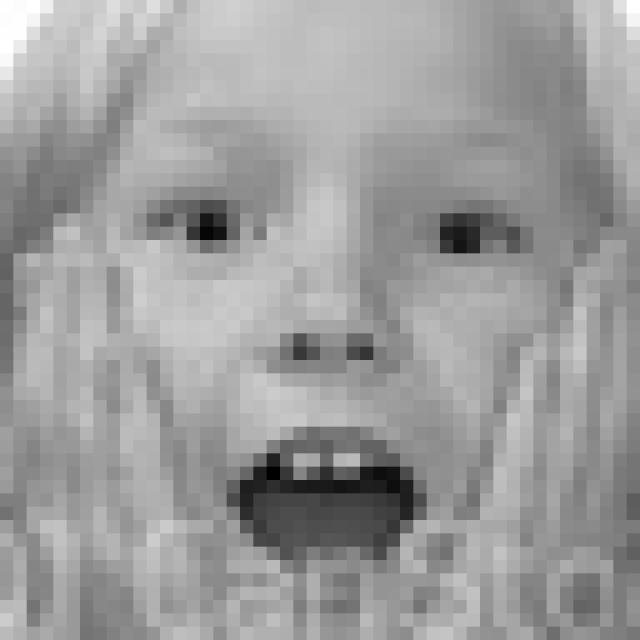surprise: (126, 113, 545, 570)
